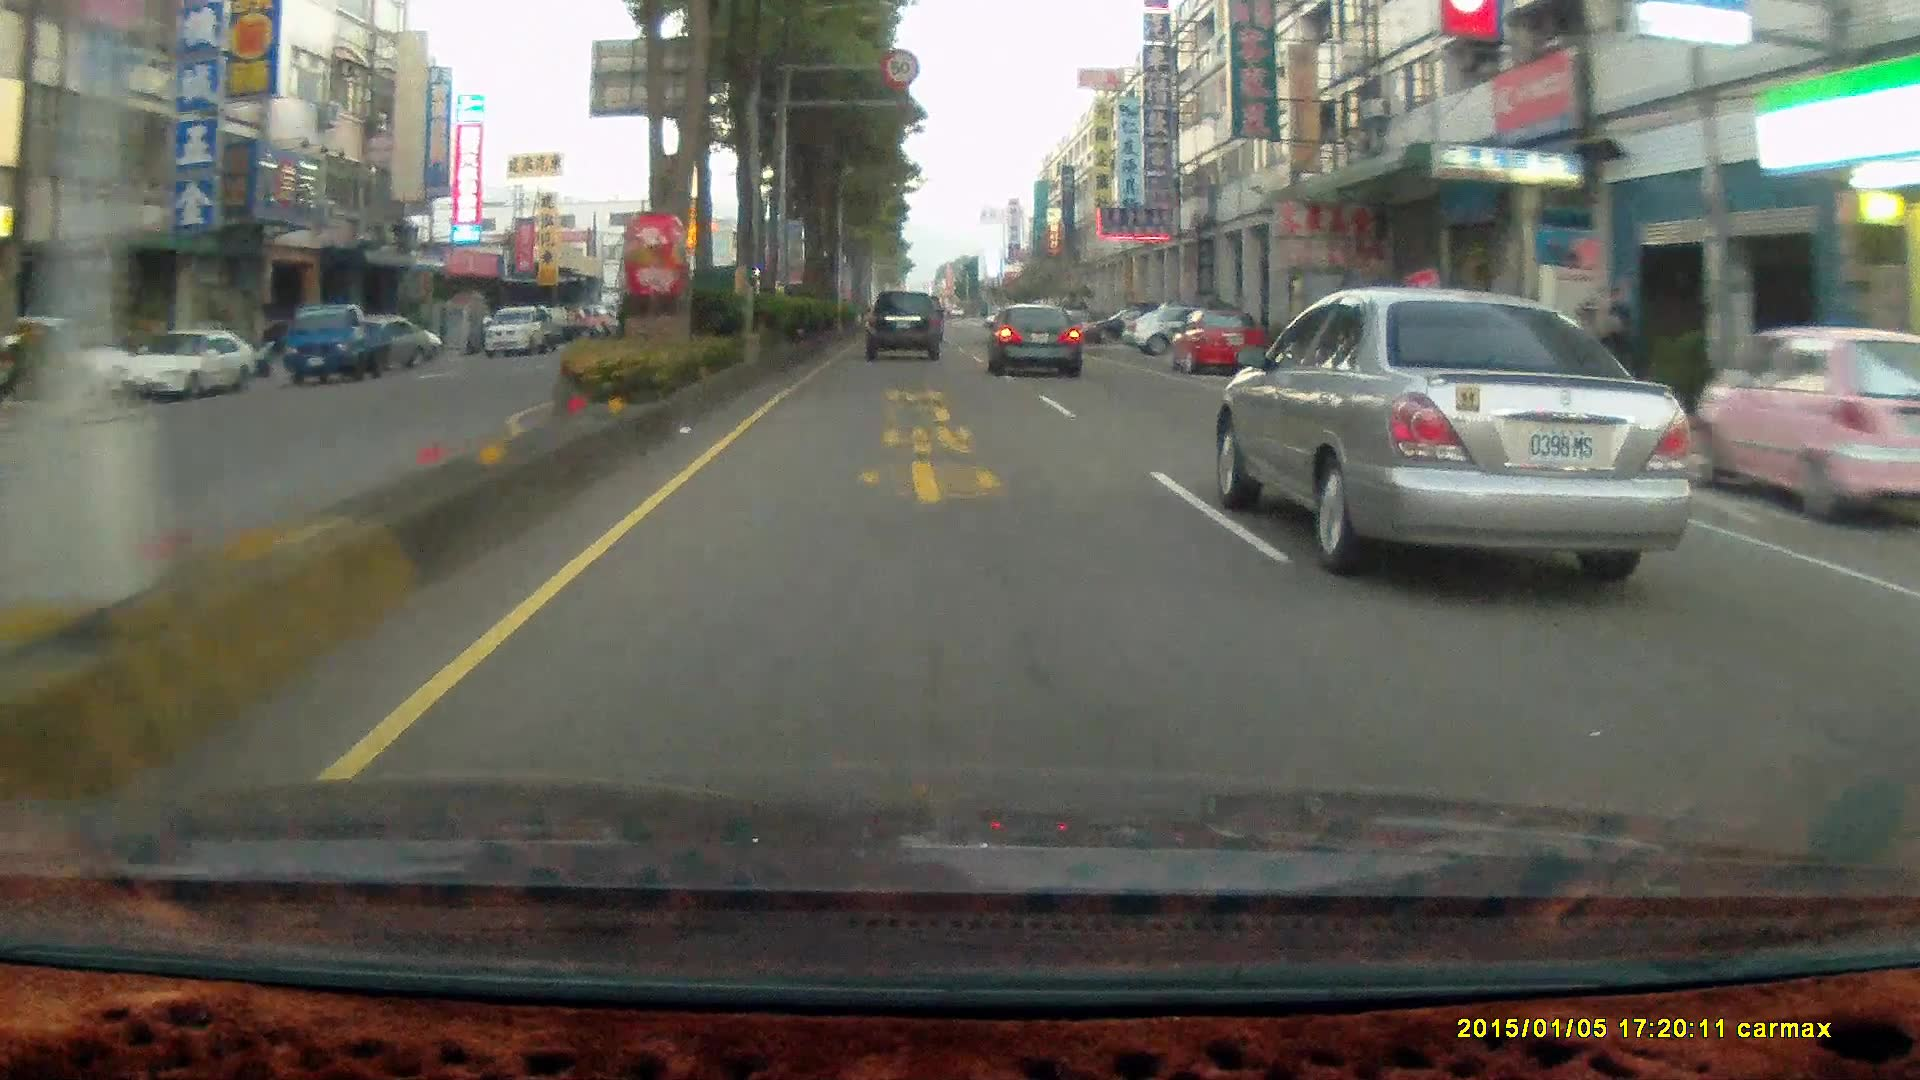vehicle: (1226, 286, 1713, 572), (1692, 322, 1920, 531), (1691, 327, 1920, 529), (1393, 294, 1596, 406), (0, 313, 138, 397), (113, 327, 257, 398), (113, 327, 255, 400), (280, 303, 407, 382), (284, 299, 392, 382), (984, 301, 1080, 378), (990, 301, 1087, 377), (1164, 306, 1261, 376), (1171, 309, 1265, 378), (1120, 295, 1237, 347), (866, 291, 949, 364), (861, 287, 940, 357), (328, 313, 429, 367), (483, 305, 550, 356), (1083, 307, 1167, 344)
